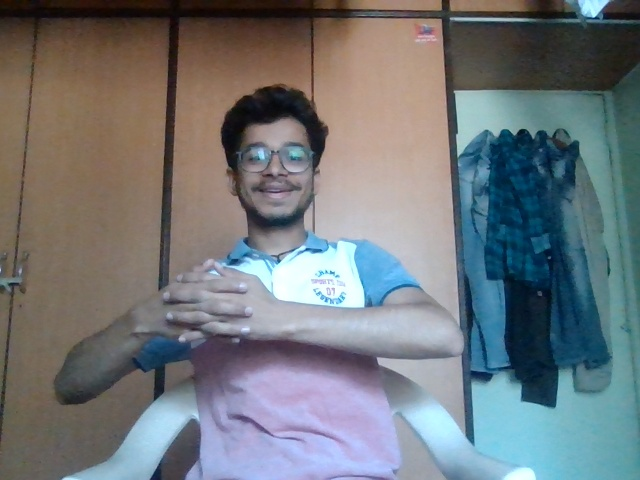good: (150, 257, 284, 355)
